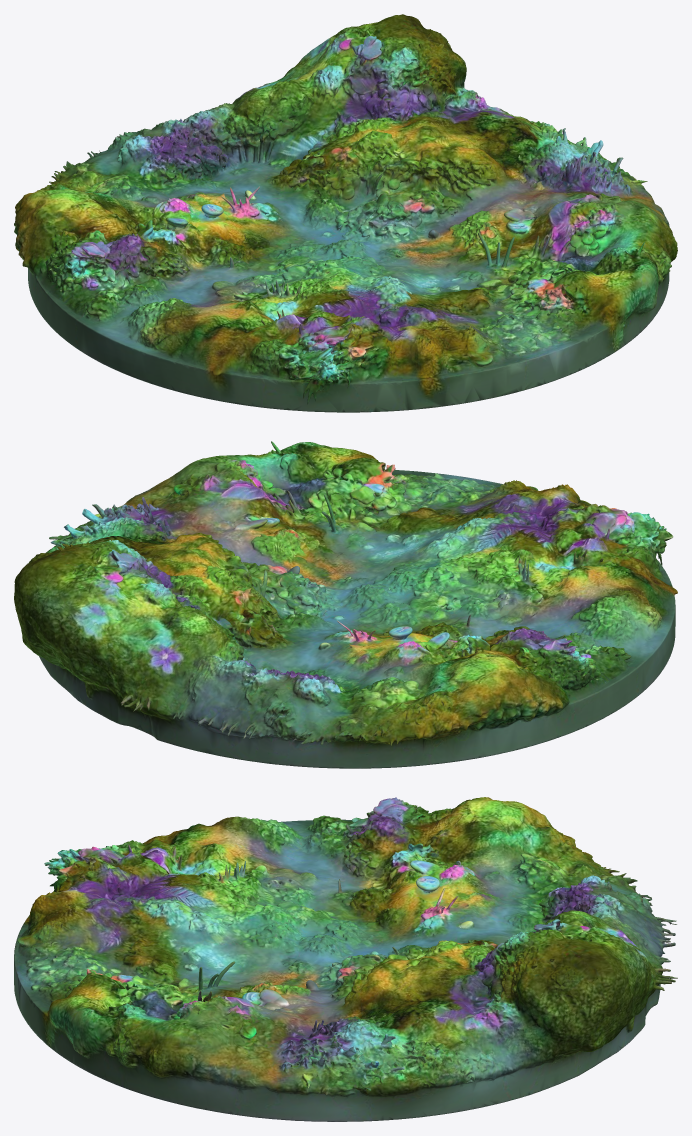
The model's file is garden.glb.
3 views of the same model, one above another, from view 1: azimuth 30°, elevation 25°; view 2: azimuth 150°, elevation 25°; view 3: azimuth 270°, elevation 25° (orthographic).
Parts seen in each view (by area): view 1: mesh_node; view 2: mesh_node; view 3: mesh_node.
Boxes of the visible parts, x1,y1,x2,y2 form: mesh_node: (14,14,677,412); mesh_node: (14,441,677,768); mesh_node: (14,797,677,1121).
Size of the model in its own units: 1.99 by 0.435 by 2.
1 material, 1 textured.
